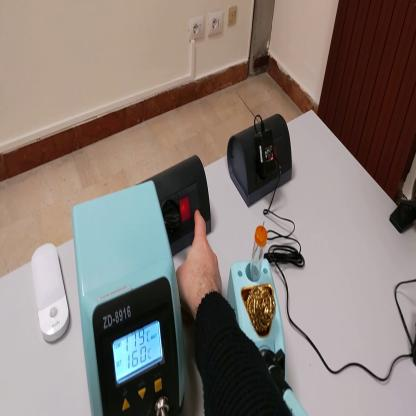electric screwdriver battery: (411, 331, 416, 369)
hand: (174, 210, 223, 314)
socket: (137, 153, 212, 254), (227, 114, 298, 209)
welder base: (227, 223, 286, 400)
welder probe tip: (269, 360, 309, 414)
welder station: (73, 177, 188, 415)
